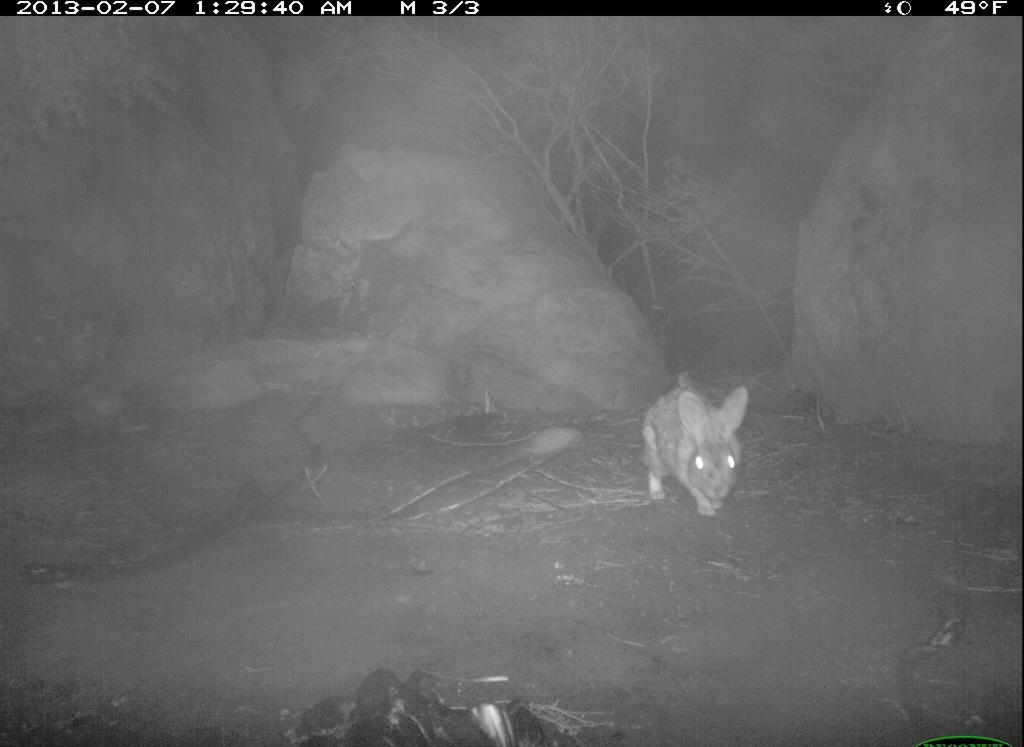rabbit: (630, 372, 752, 523)
